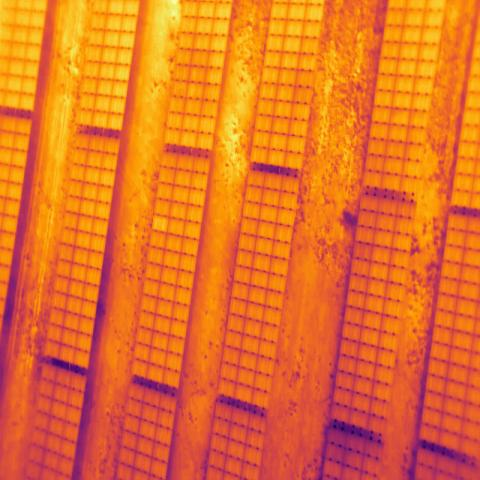fault: (152, 214, 169, 234)
